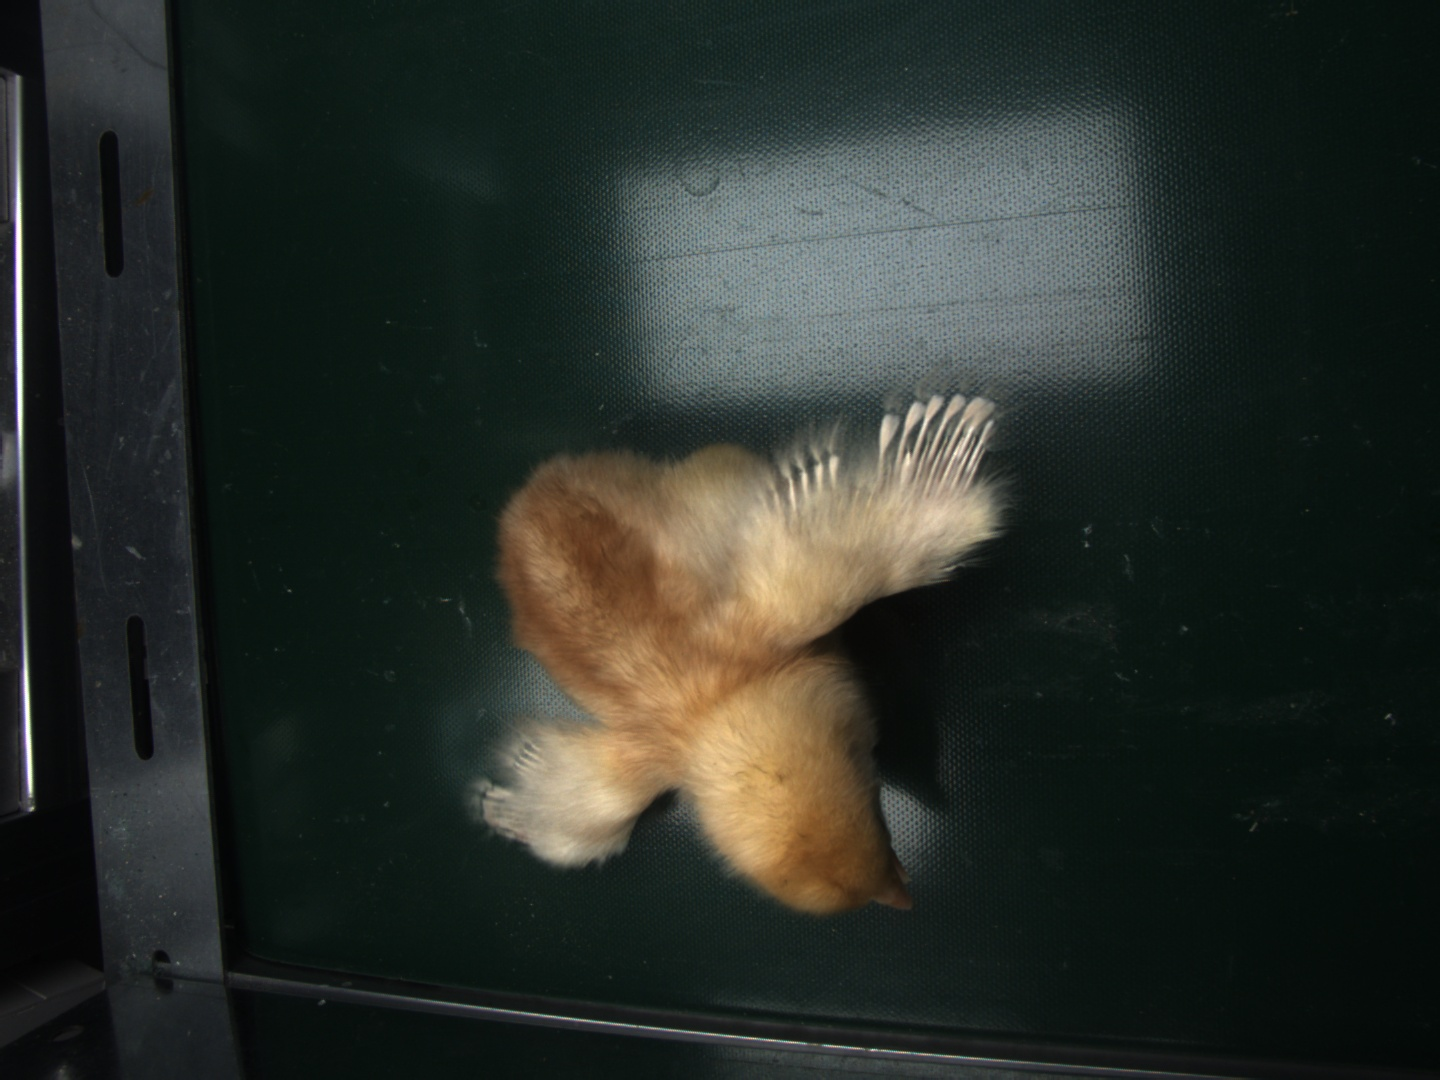female: (888, 393, 996, 486)
